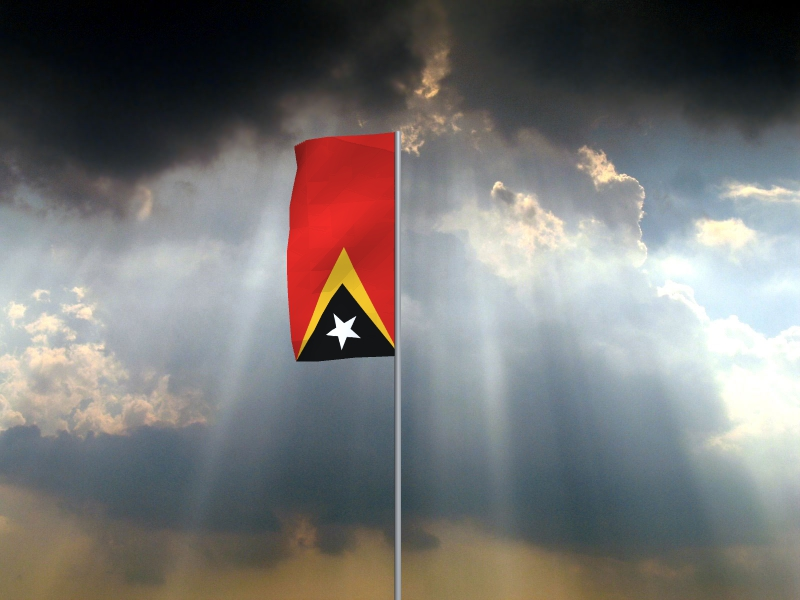tl: (287, 133, 395, 364)
